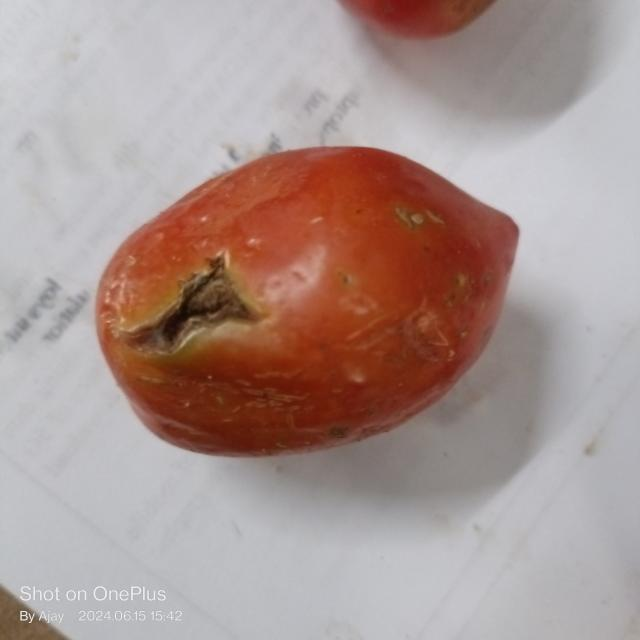Botrytis: (101, 248, 264, 352)
